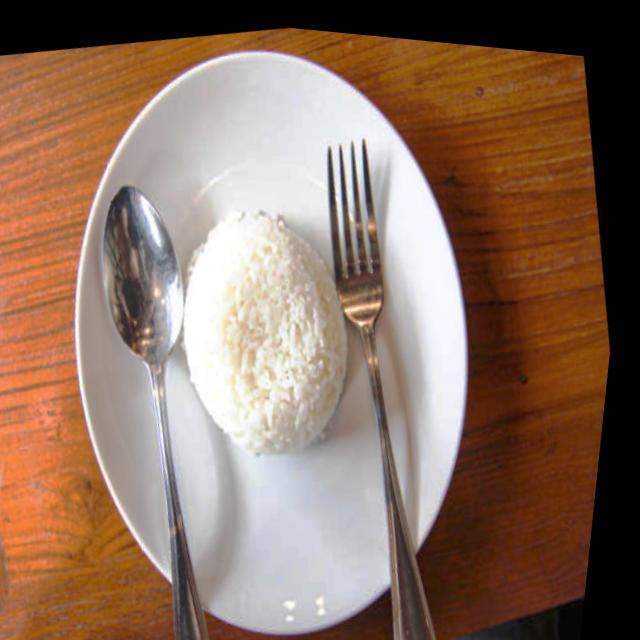rice: (143, 185, 381, 480)
